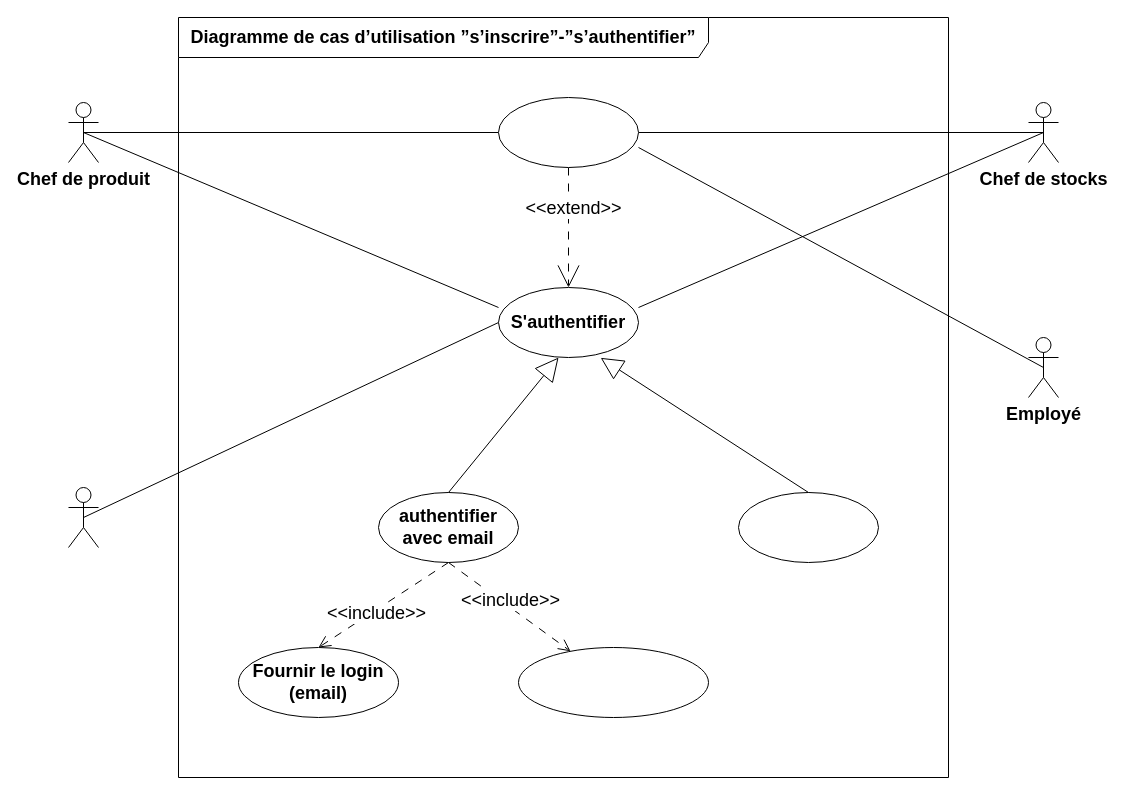
This 1125x795 diagram has some shape labels left out. The centre of each missing label's shape, as x and y in pixels:
Administrateur: the point at 83,517
authentifier avec google: the point at 808,527
Fournir le mot de passe: the point at 613,682
S'inscrire: the point at 568,132
